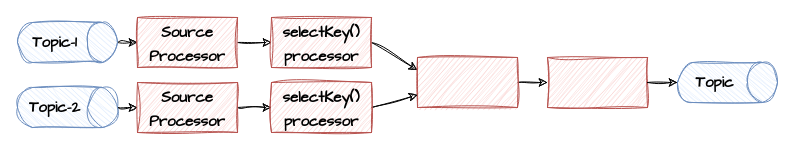
The diagram is 795 pixels wide and 150 high, and some of its shapes have lost their labels. Each missing label, with the box of its shape:
Join() Processor: (416, 56, 518, 108)
Sink Processor: (546, 56, 648, 108)
